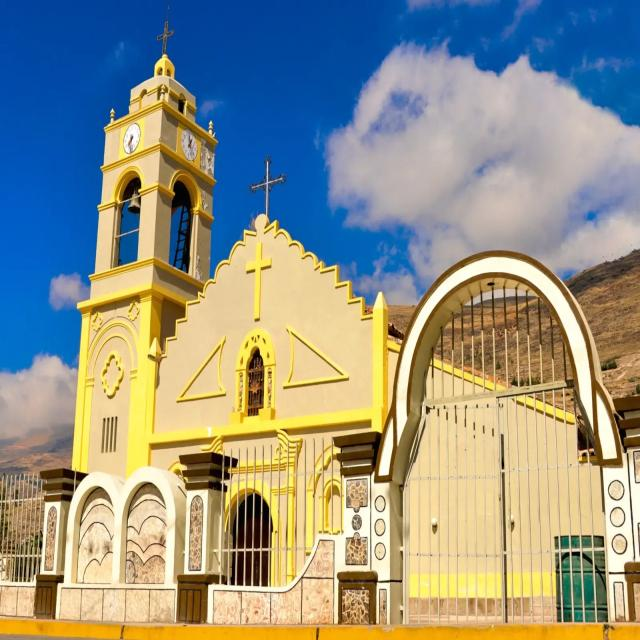CAMPANARIO: (84, 115, 217, 292)
PORTADA CENTRAL: (184, 427, 292, 630)
TORRES: (69, 28, 239, 554)
colonial-architecture-: (26, 9, 630, 634)
